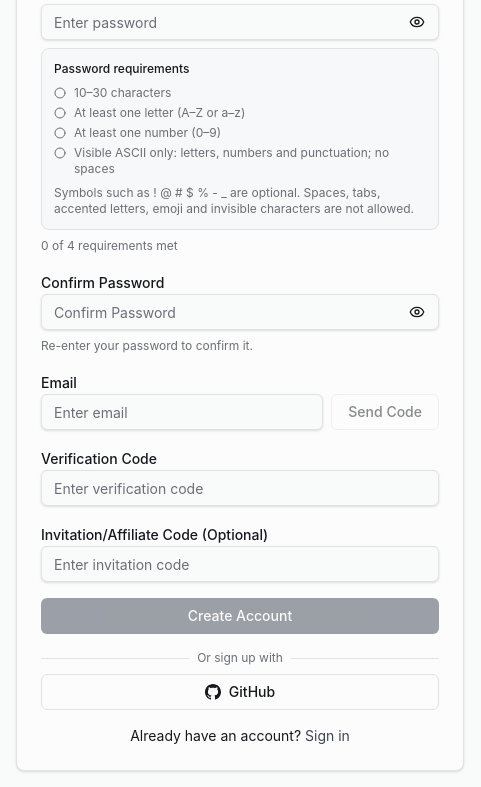
it: RegisterPage OAuth state handling › shows the localized OAuth state error instead of launching GitHub OAuth when state creation fails
(page scrolled)
What coordinates should you click on to do the following:
click the button "GitHub"
I would click on:
 (240, 692)
Its box is [41, 674, 439, 710].
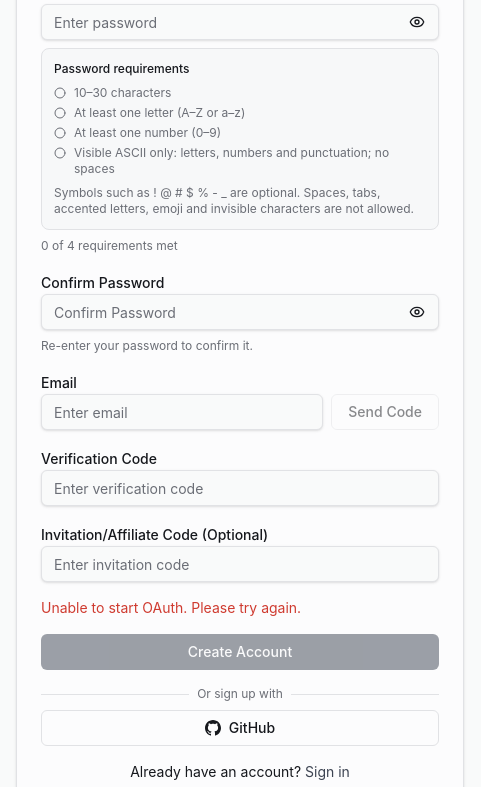
Now the text "Unable to start OAuth. Please try again." is shown, box [41, 599, 301, 616]
